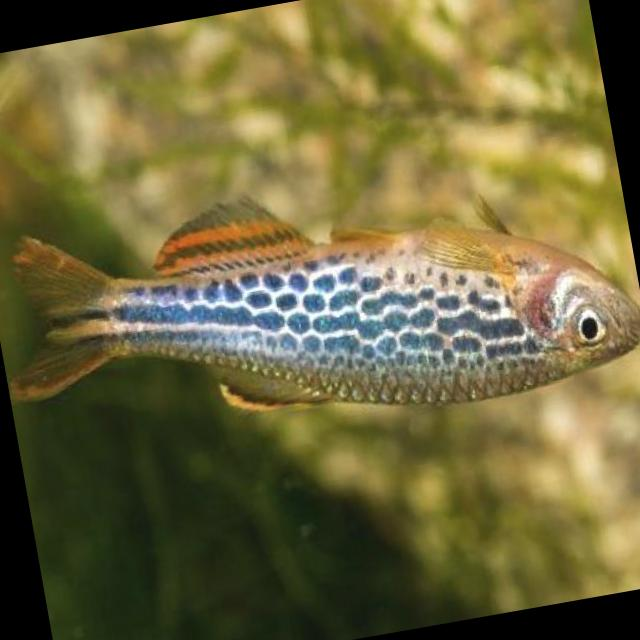ZebraFish: (0, 118, 640, 485)
